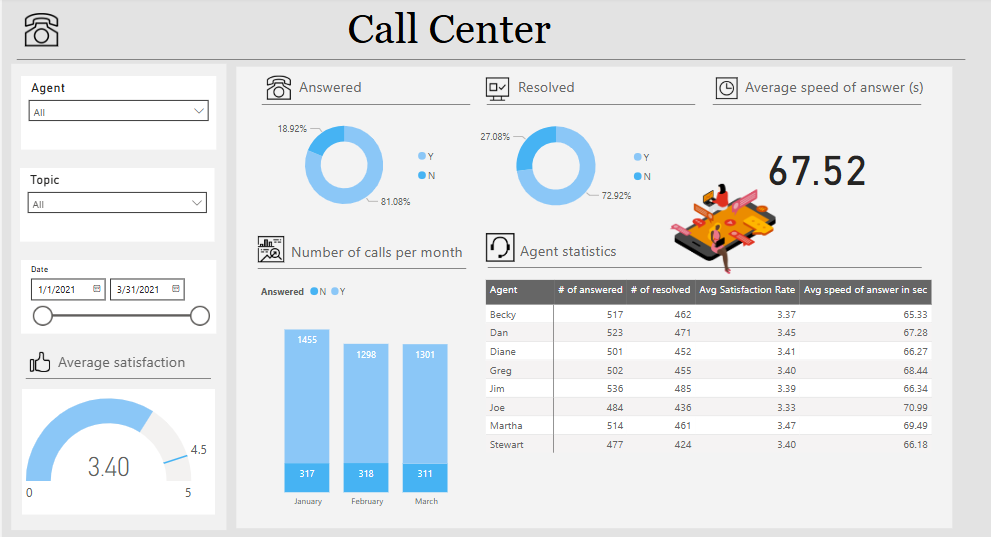

The dashboard page shown, as its layout file describes it:
{"tool":"powerbi","page":{"name":"Call Center Manager","canvas":[1280,720],"ordinal":0},"visuals":[{"type":"textbox","box":[89.7,4.8,1172,75.2],"z":0},{"type":"basicShape","box":[9,61,1244.3,40.1],"z":1000},{"type":"basicShape","box":[8.7,80.1,283.6,614.4],"z":2000},{"type":"basicShape","box":[292.6,83.8,942.7,607.6],"z":3000},{"type":"image","box":[24.1,7.7,53.1,68.5],"z":5000},{"type":"columnChart","fields":{"Category":["Call Center.Date.Variation.Date Hierarchy.Month"],"Y":["Call Center.Call Id"],"Series":["Call Center.Answered (Y/N)"]},"box":[329.5,359.7,284.8,308.3],"z":6000},{"type":"slicer","fields":{"Values":["Call Center.Date"]},"box":[24.6,339.5,252.4,94.9],"z":7000},{"type":"pivotTable","fields":{"Rows":["Call Center.Agent"],"Values":["Call Center.# of answered","Call Center.# of resolved","Call Center.Satisfaction rating","Call Center.Speed of answer in seconds"]},"box":[619.9,359.7,607.6,279.2],"z":8000},{"type":"slicer","fields":{"Values":["Call Center.Agent"]},"box":[24.6,101.6,252.4,95],"z":9000},{"type":"slicer","fields":{"Values":["Call Center.Topic"]},"box":[23.5,220.6,251.3,94.9],"z":10000},{"type":"donutChart","fields":{"Category":["Call Center.Resolved"],"Y":["Call Center.Resolved"]},"box":[611,143,242.4,149.7],"z":11000},{"type":"gauge","fields":{"Y":["Call Center.Satisfaction rating"],"MaxValue":["Call Center.Satisfaction rating"],"TargetValue":["Call Center.Target Value Satisfaction"]},"box":[25.7,506,249.1,162],"z":12000},{"type":"image","box":[31.1,452.4,35.7,35.7],"z":13000},{"type":"textbox","box":[66.8,452.4,188.1,35.7],"z":14000},{"type":"basicShape","box":[21.2,472.5,259.1,40.2],"z":15000},{"type":"donutChart","fields":{"Category":["Call Center.Answered (Y/N)"],"Y":["Call Center.Answered (Y/N)"]},"box":[341.8,141.8,232.3,149.7],"z":16000},{"type":"textbox","box":[378.6,98.3,172,35.7],"z":17000},{"type":"textbox","box":[660.1,98.3,183.2,35.7],"z":18000},{"type":"card","fields":{"Values":["Call Center.Speed of answer in seconds"]},"box":[953.9,148.6,196.6,136.3],"z":19000},{"type":"basicShape","box":[906.9,118.4,289.3,40.2],"z":20000},{"type":"textbox","box":[953.9,98.3,250.2,35.7],"z":21000},{"type":"basicShape","box":[325,118.4,289,40.2],"z":22000},{"type":"basicShape","box":[616,118.4,289,40.2],"z":23000},{"type":"image","box":[915.9,88.2,38,59.2],"z":24000},{"type":"image","box":[337.3,94.9,41.3,43.6],"z":25000},{"type":"image","box":[619.9,88.2,40.2,61.4],"z":26000},{"type":"textbox","box":[367.4,310.5,250.2,35.7],"z":27000},{"type":"basicShape","box":[320.5,330.6,289.3,40.2],"z":28000},{"type":"textbox","box":[663.4,309.3,250.2,35.7],"z":29000},{"type":"basicShape","box":[616.5,329.5,579.7,40.2],"z":30000},{"type":"image","box":[619.9,294.9,46.9,55.8],"z":31000},{"type":"image","box":[325,290.4,43.6,69.2],"z":32000},{"type":"image","box":[800.6,197.7,278.8,187.1],"z":33000},{"type":"textbox","box":[7.7,691.6,403.2,28],"z":34000}]}

Visuals, with their boxes on the page's 1280x720 design canvas (x1, y1, x2, y2). These are canvas units, not pixel positions in the 991x537 screenshot, which may show the page scaled, cropped or inside an application window:
textbox: 90 5 1262 80
basicShape: 9 61 1253 101
basicShape: 9 80 292 694
basicShape: 293 84 1235 691
image: 24 8 77 76
columnChart - Call Center.Date.Variation.Date Hierarchy.Month x Call Center.Call Id: 330 360 614 668
slicer - Call Center.Date: 25 340 277 434
pivotTable - Call Center.Agent x Call Center.# of answered: 620 360 1228 639
slicer - Call Center.Agent: 25 102 277 197
slicer - Call Center.Topic: 24 221 275 316
donutChart - Call Center.Resolved x Call Center.Resolved: 611 143 853 293
gauge - Call Center.Satisfaction rating x Call Center.Satisfaction rating: 26 506 275 668
image: 31 452 67 488
textbox: 67 452 255 488
basicShape: 21 472 280 513
donutChart - Call Center.Answered (Y/N) x Call Center.Answered (Y/N): 342 142 574 292
textbox: 379 98 551 134
textbox: 660 98 843 134
card - Call Center.Speed of answer in seconds: 954 149 1150 285
basicShape: 907 118 1196 159
textbox: 954 98 1204 134
basicShape: 325 118 614 159
basicShape: 616 118 905 159
image: 916 88 954 147
image: 337 95 379 138
image: 620 88 660 150
textbox: 367 310 618 346
basicShape: 320 331 610 371
textbox: 663 309 914 345
basicShape: 616 330 1196 370
image: 620 295 667 351
image: 325 290 369 360
image: 801 198 1079 385
textbox: 8 692 411 720
